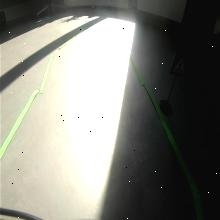crosswalk: (169, 51, 190, 76)
